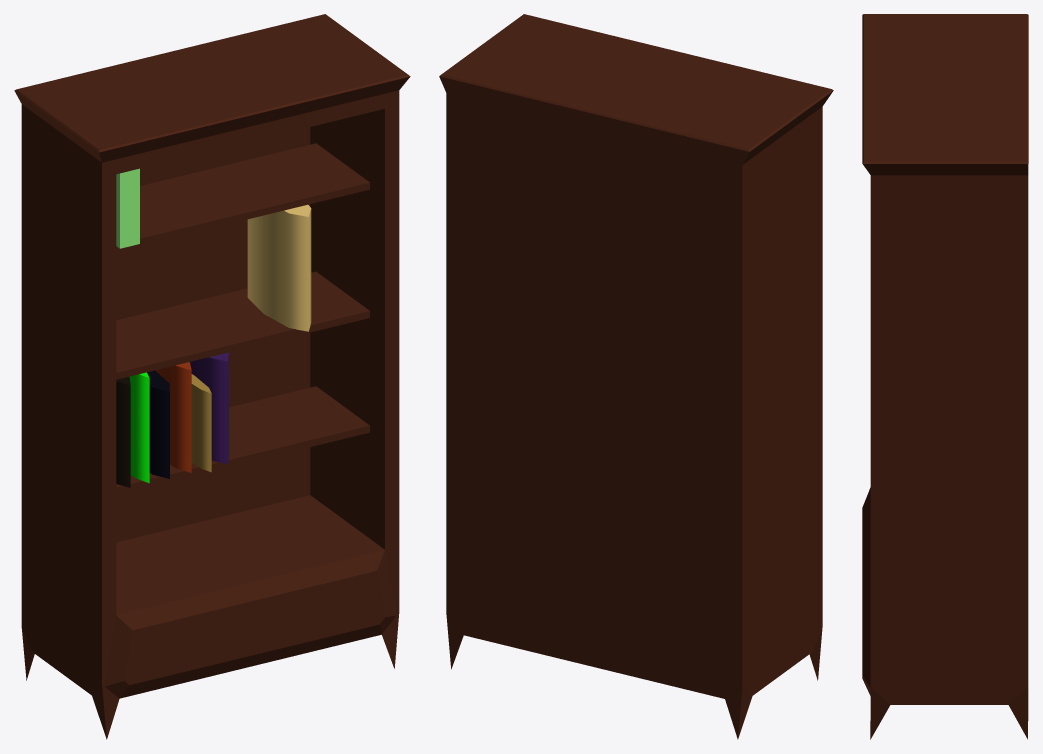
The model's file is bookcase2.fbx.
3 views of the same model, side by side, from view 1: azimuth 30°, elevation 25°; view 2: azimuth 150°, elevation 25°; view 3: azimuth 270°, elevation 25° (orthographic).
Visible parts, largest first — view 1: Cube_1, Cube_1_1, Cube_1_2, Cube_1_3, Cylinder_3, Cylinder_3_5, Cylinder_3_7, Cylinder_3_4, Cylinder_3_3, Cylinder_3_6, Cube_5, Cylinder_3_2; view 2: Cube_1; view 3: Cube_1.
Boxes of the visible parts, x1,y1,x2,y2 form: Cube_1: (14, 14, 410, 739); Cube_1_1: (116, 143, 369, 251); Cube_1_2: (116, 271, 369, 379); Cube_1_3: (116, 386, 369, 494); Cylinder_3: (247, 204, 311, 331); Cylinder_3_5: (155, 362, 191, 472); Cylinder_3_7: (189, 352, 228, 464); Cylinder_3_4: (147, 370, 169, 478); Cylinder_3_3: (129, 372, 149, 483); Cylinder_3_6: (191, 374, 211, 472); Cube_5: (116, 168, 139, 248); Cylinder_3_2: (116, 377, 130, 487); Cube_1: (439, 14, 833, 739); Cube_1: (862, 14, 1028, 739).
Size of what is drawn, in the model's own units: 2.17 by 3.96 by 1.02.
